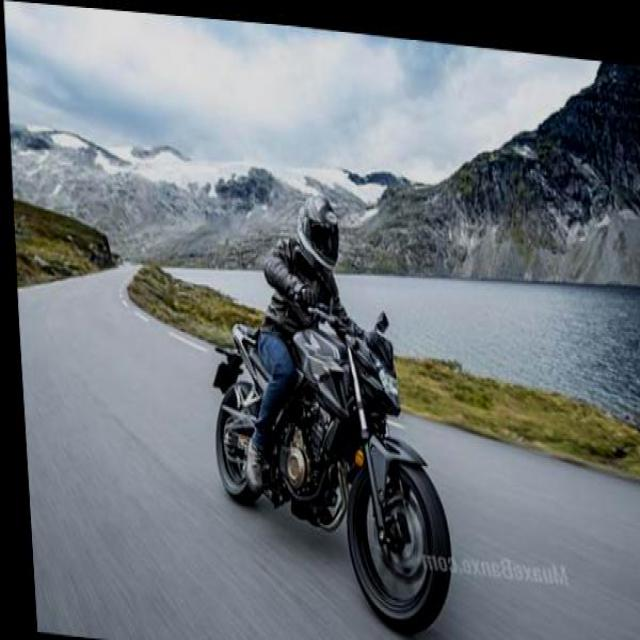CB500F: (201, 283, 454, 635)
